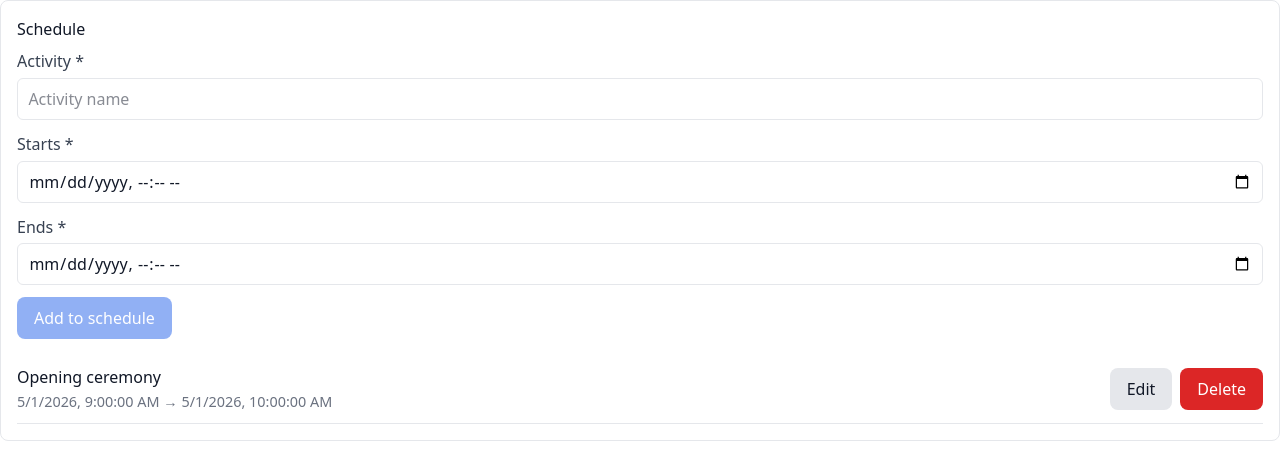
Test case: ScheduleSection › deletes an entry and refreshes the list
Expected: the list item with test id "schedule-row-s1" is shown, x1=17 y1=355 x2=1263 y2=424
Click the button with test id "schedule-delete-s1" at (1222, 389), box x1=1180 y1=368 x2=1263 y2=410
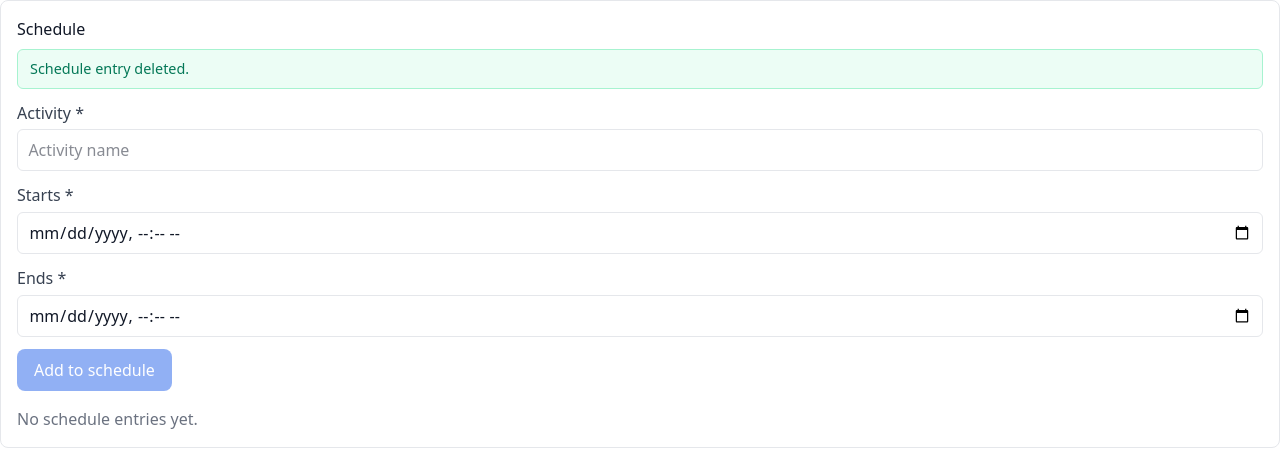
Now the message with test id "schedule-notice" shows "deleted", box x1=30 y1=59 x2=189 y2=78
Now the text "No schedule entries yet." is shown, box x1=17 y1=408 x2=198 y2=430
